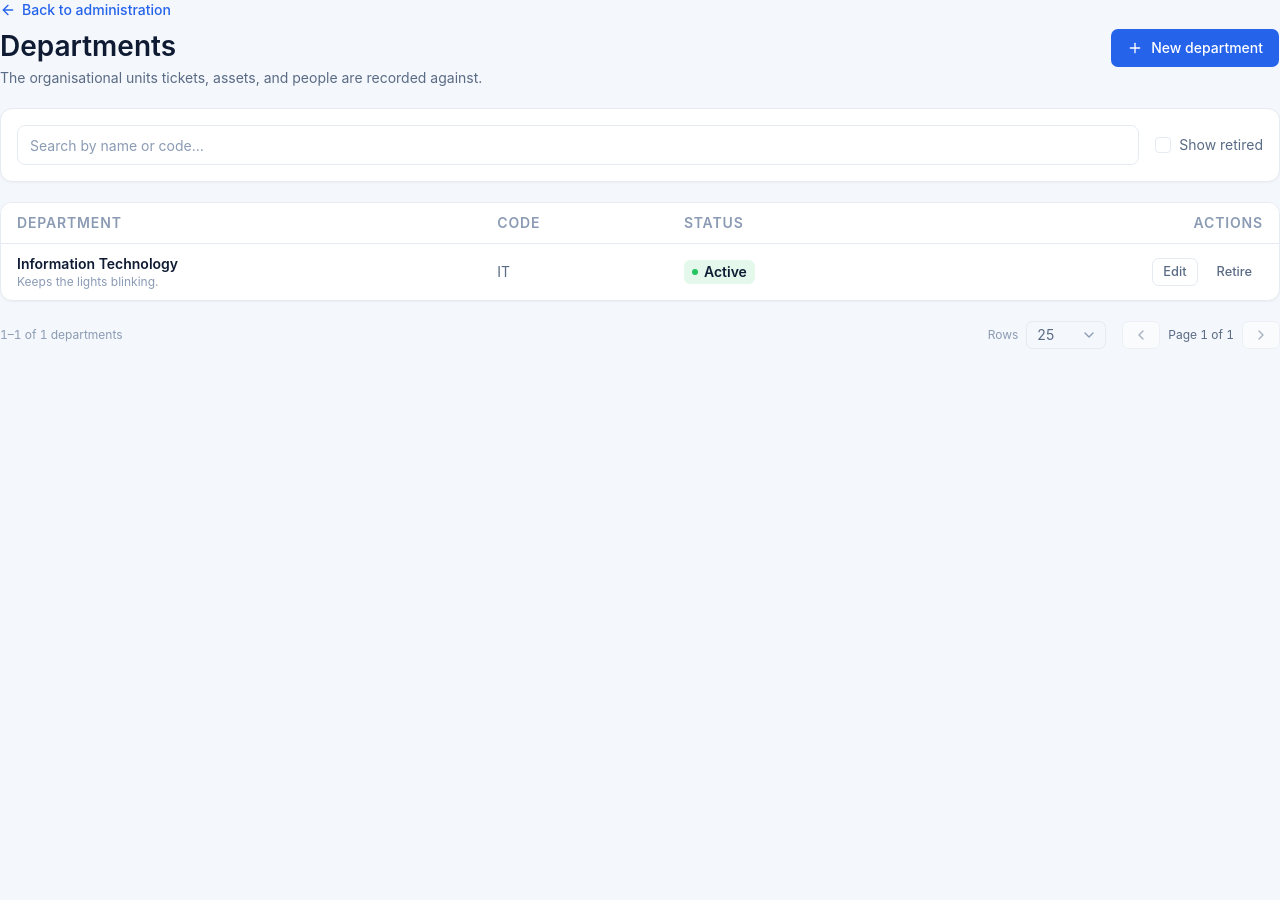
Test case: DepartmentsPage › puts a duplicate name back on the field that caused it
Expected: the text "Information Technology" is shown, [17,254,178,272]
Click the button "New department" at (1195, 48), box [1110,28,1279,68]
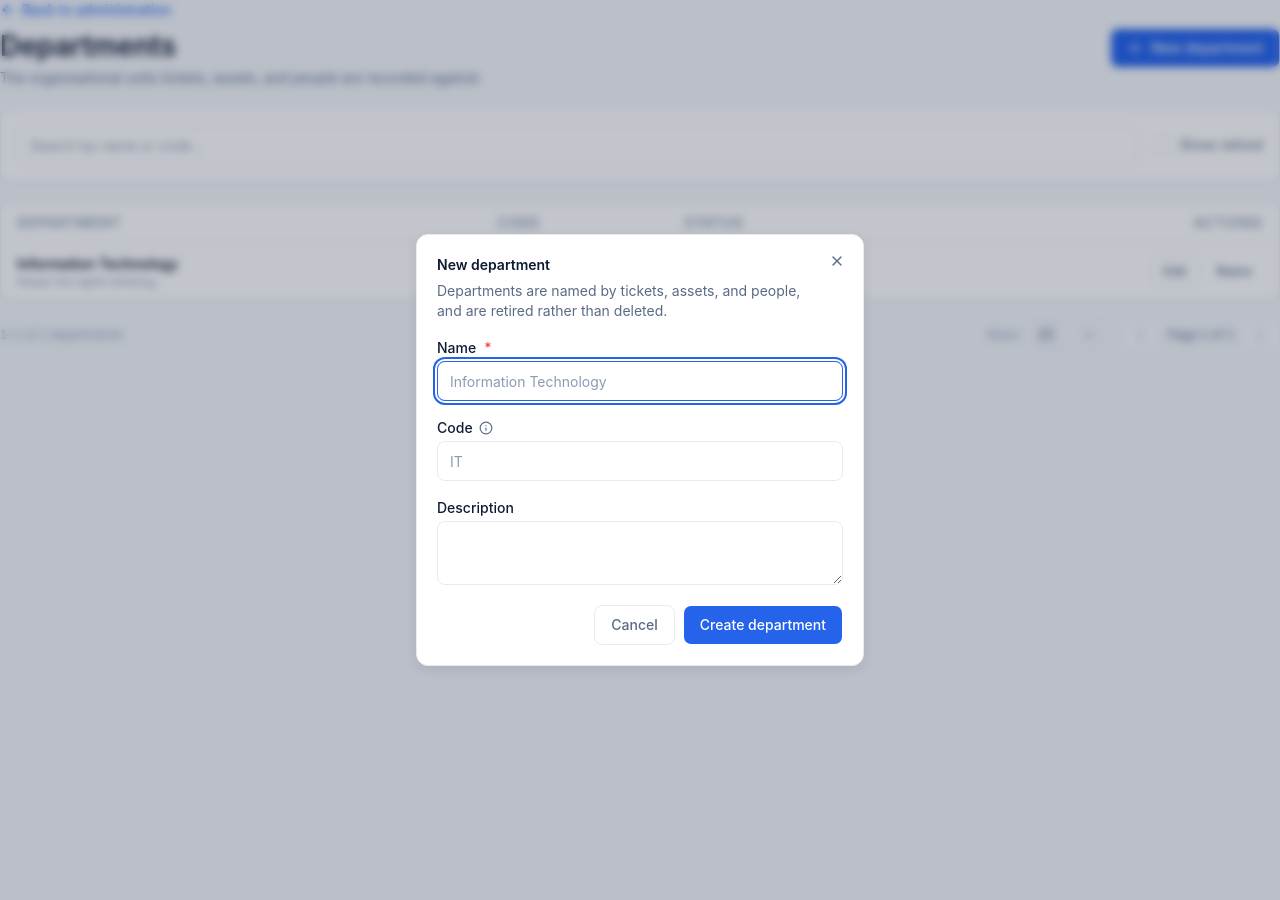
Type "IT" into the field labelled "Name *" at (640, 381), box [437,361,843,401]
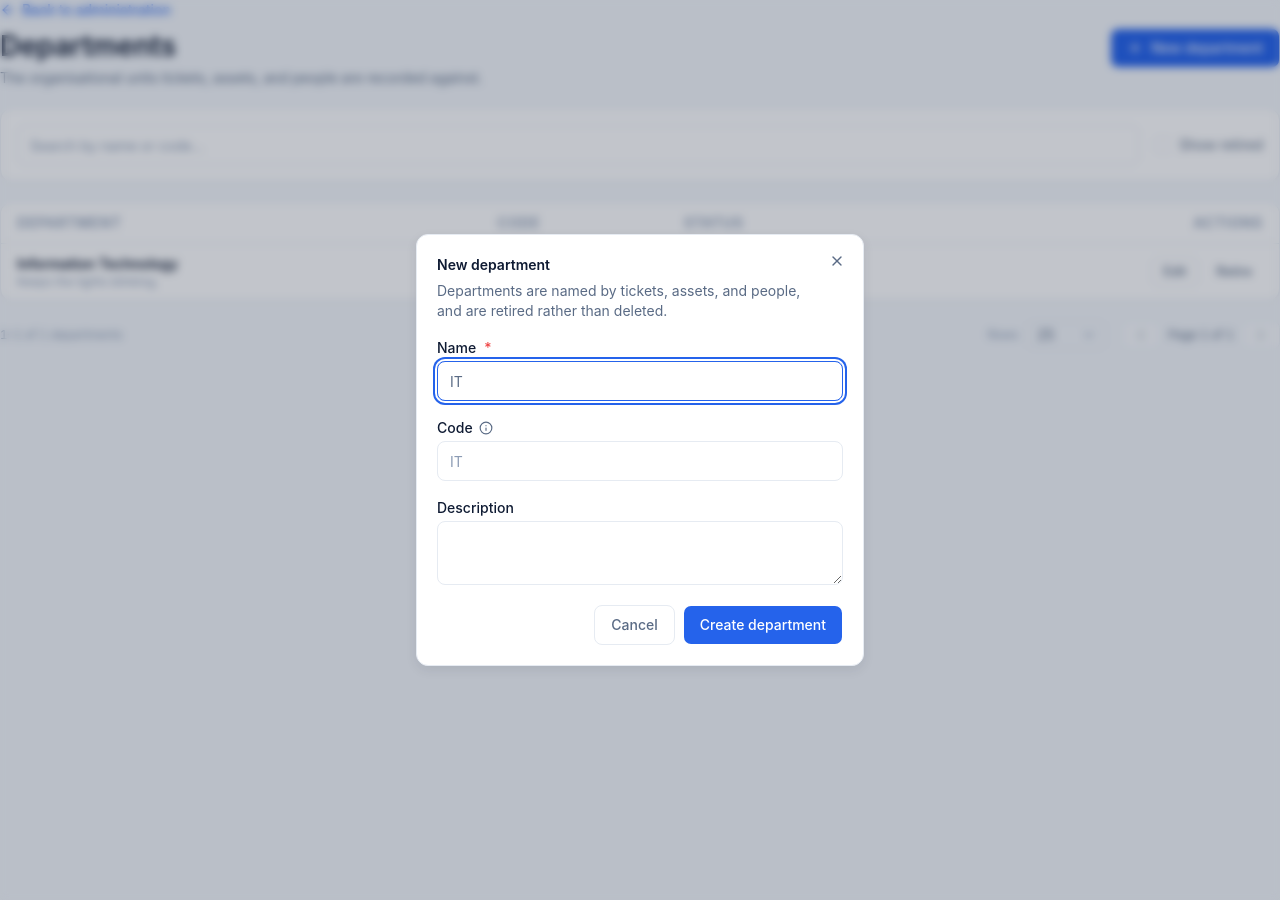
Click the button "Create department" at (763, 625), box [683,605,843,645]
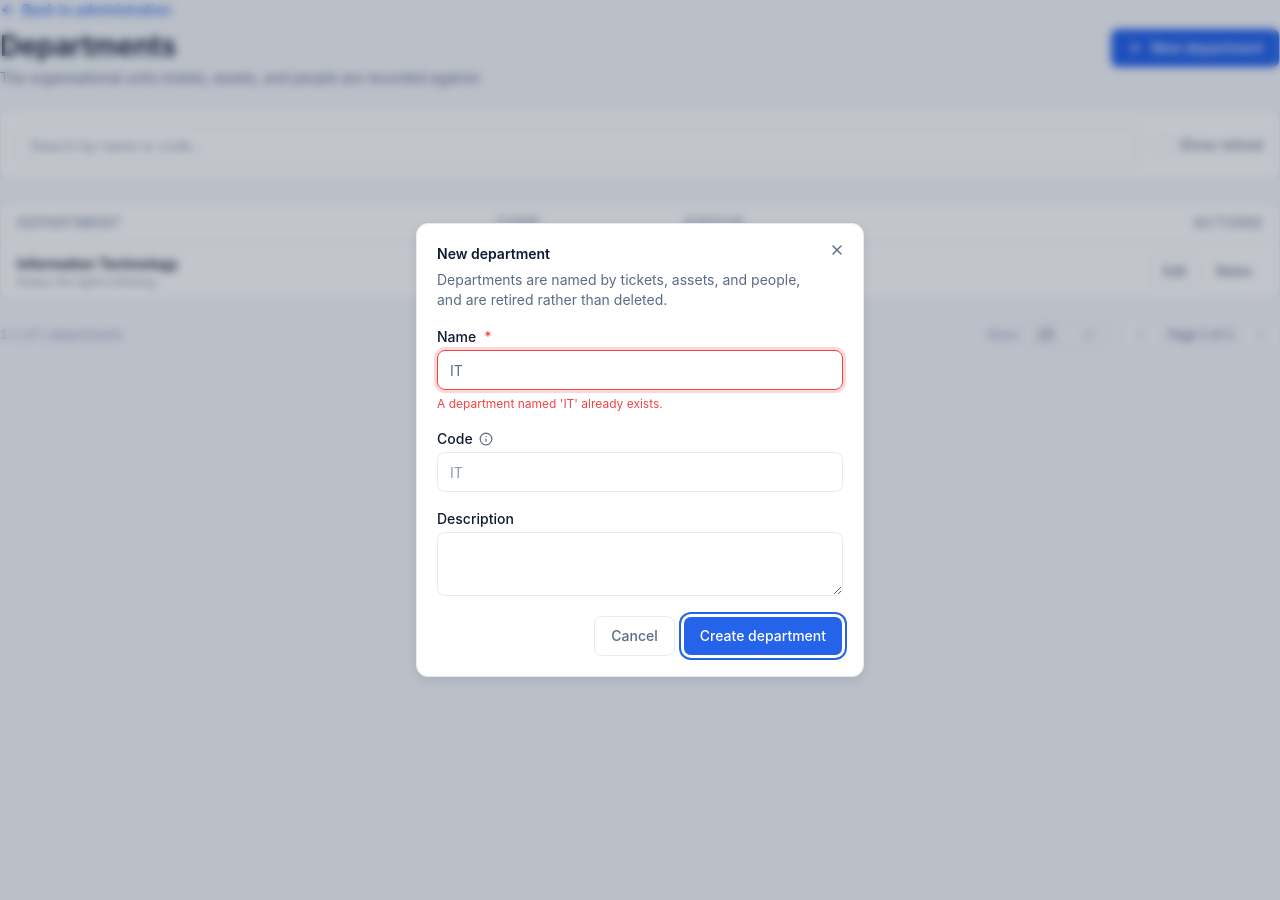
Result: the text "A department named 'IT' already exists." is shown at [437,396,663,411]
